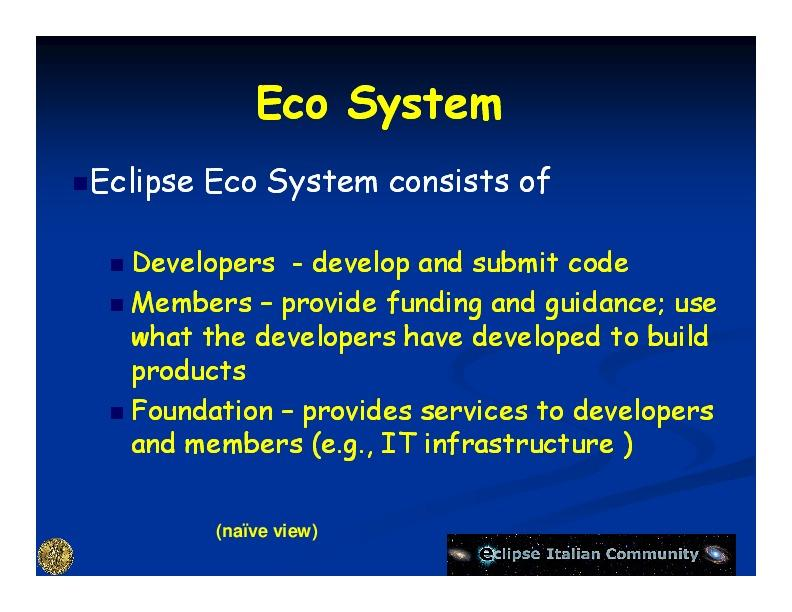paragraph: (68, 156, 733, 477)
subtitle: (447, 530, 762, 587)
title: (253, 75, 510, 137)
